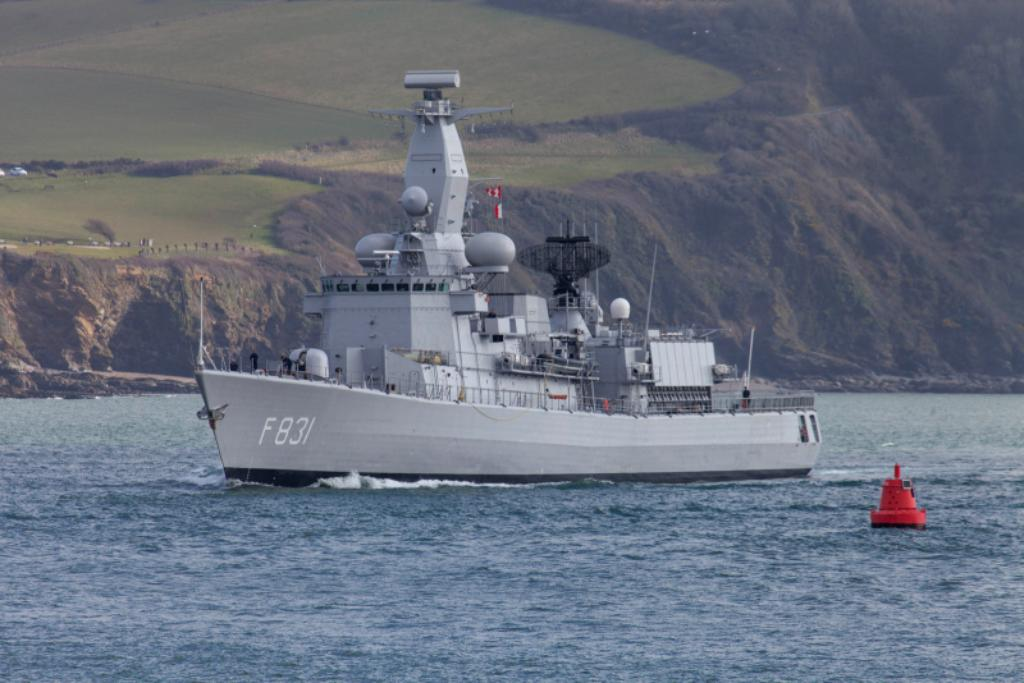Warship: (187, 69, 829, 487)
